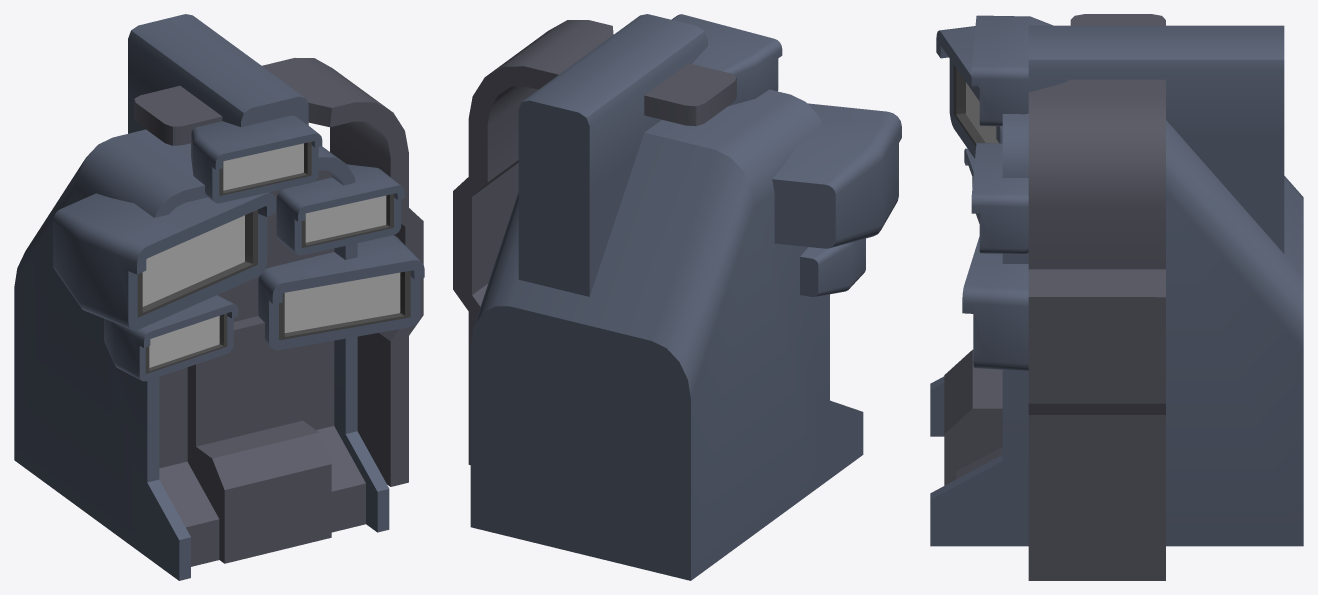
3 views of the same model, side by side, from view 1: azimuth 30°, elevation 25°; view 2: azimuth 150°, elevation 25°; view 3: azimuth 270°, elevation 25° (orthographic). The views are drawn at different scales.
Parts seen in each view (by area): view 1: Cube.007; view 2: Cube.007; view 3: Cube.007.
Part boxes in pixels (<box>): Cube.007: <box>14,14,424,580</box>; Cube.007: <box>453,14,901,580</box>; Cube.007: <box>930,14,1303,580</box>.
Size of the model in its own units: 3.3 by 3.75 by 2.71.
